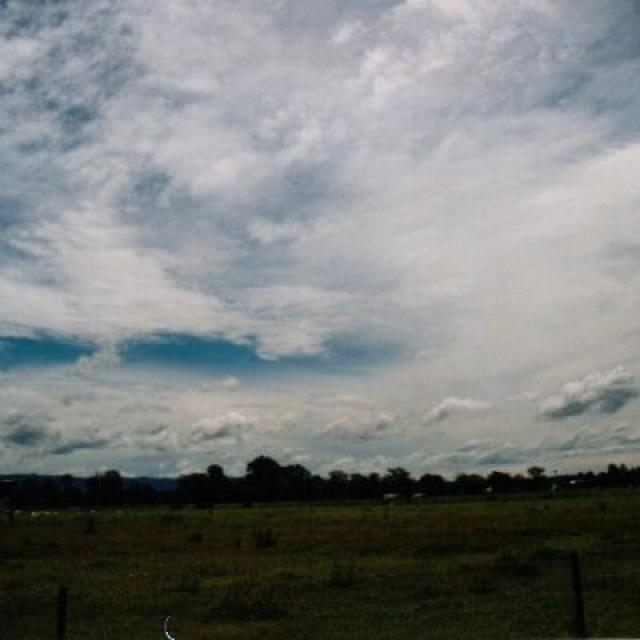Cs: (10, 15, 640, 440)
